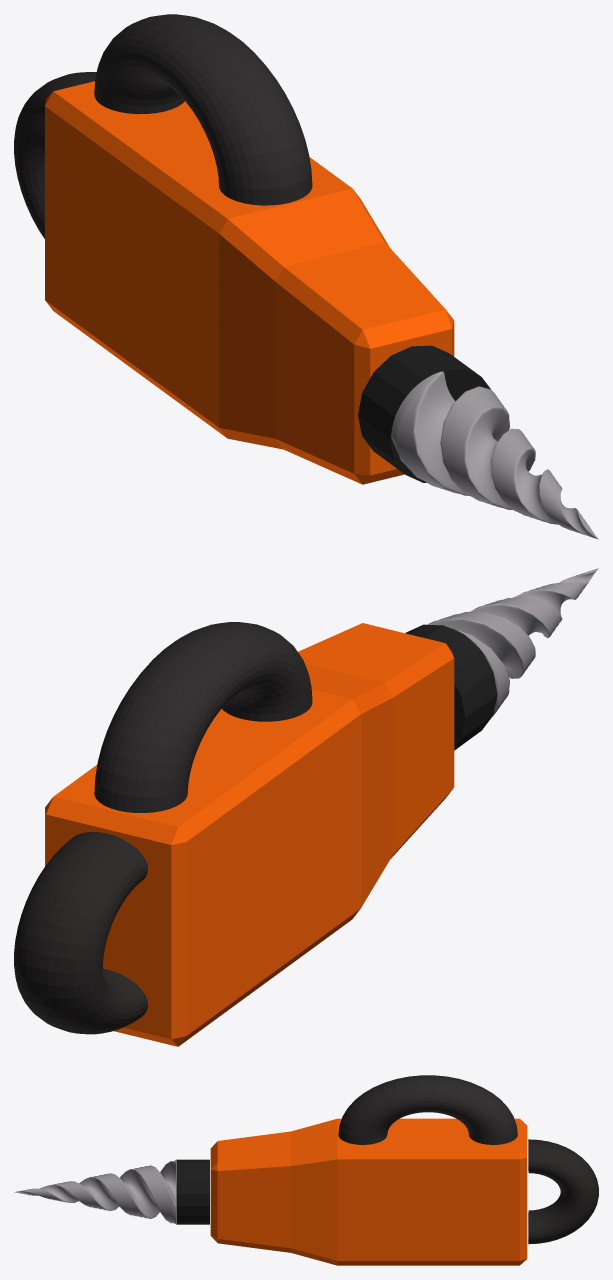
Rendered from drill.glb.
The picture shows the model from 3 angles, top to bottom: view 1: azimuth 30°, elevation 25°; view 2: azimuth 150°, elevation 25°; view 3: azimuth 270°, elevation 25°; orthographic projection. The views are drawn at different scales.
Visible parts, largest first — view 1: Cube, Handle, Circle, Cylinder, Handle.001; view 2: Cube, Handle, Handle.001, Circle, Cylinder; view 3: Cube, Handle, Handle.001, Circle, Cylinder.
Part boxes in pixels (x1,y1,x2,y2): Cube: (45,81,454,484); Handle: (94,14,312,205); Circle: (391,371,598,539); Cylinder: (358,345,490,482); Handle.001: (14,72,96,238); Cube: (45,623,454,1046); Handle: (94,622,312,812); Handle.001: (14,831,147,1034); Circle: (427,568,598,716); Cylinder: (405,624,497,750); Cube: (210,1118,527,1265); Handle: (338,1075,517,1144); Handle.001: (528,1139,598,1244); Circle: (14,1160,175,1223); Cylinder: (176,1159,209,1224).
Bounding box in the file's own units: 1.09 × 2.42 × 7.48.
